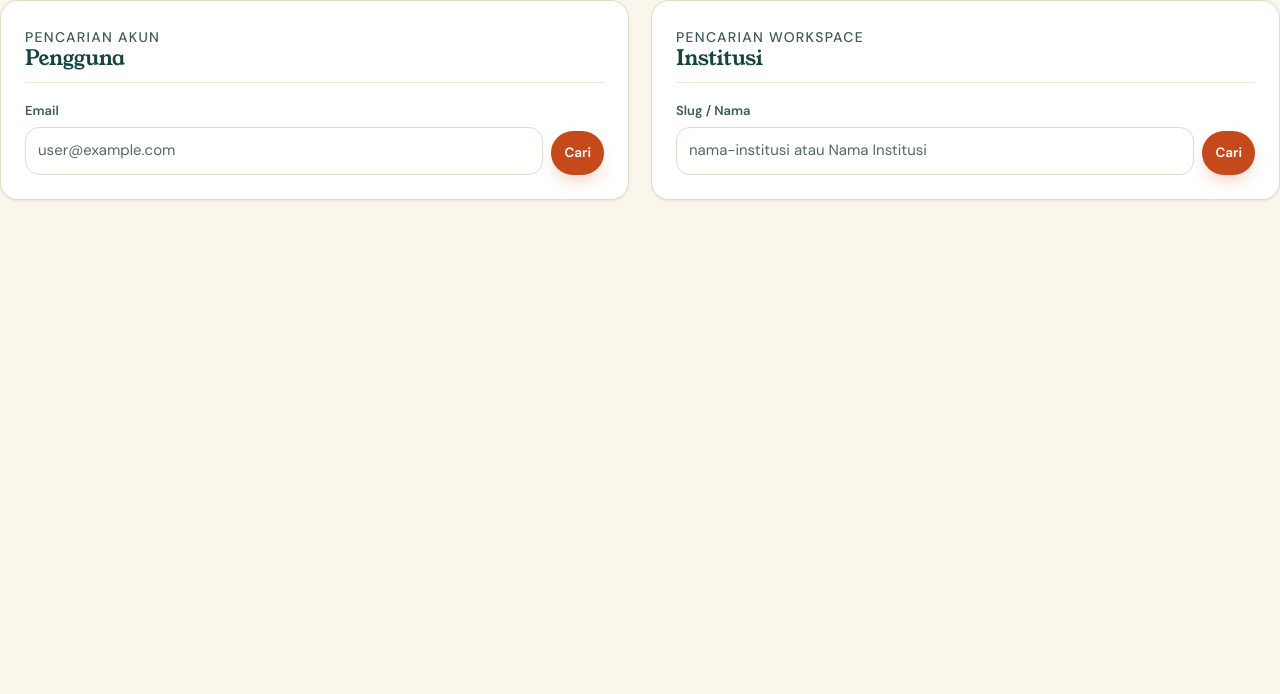
elevating a recruiter to the full tier › tells the operator an account that was already at the tier was left alone
Type "target@example.test" into the field labelled "Email". click: x=284, y=151
box: [25,127,543,175]
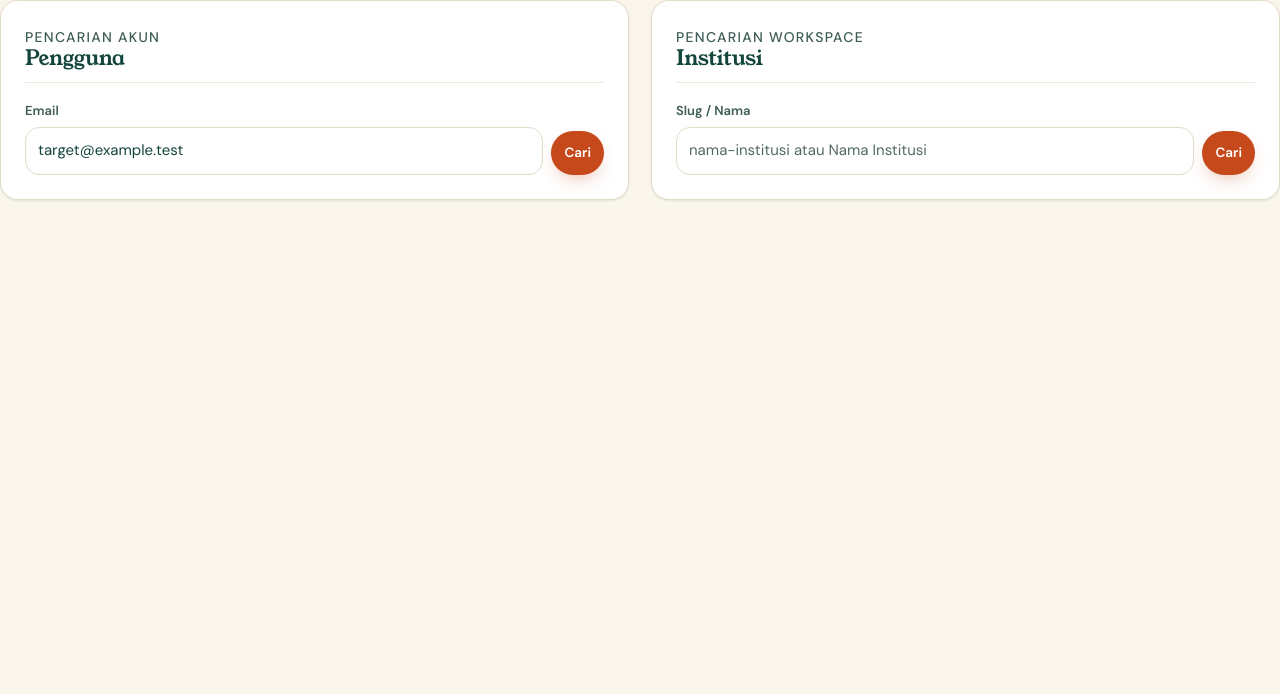
Click the 1st button "Cari". click: x=578, y=153
box: [551,131,604,175]
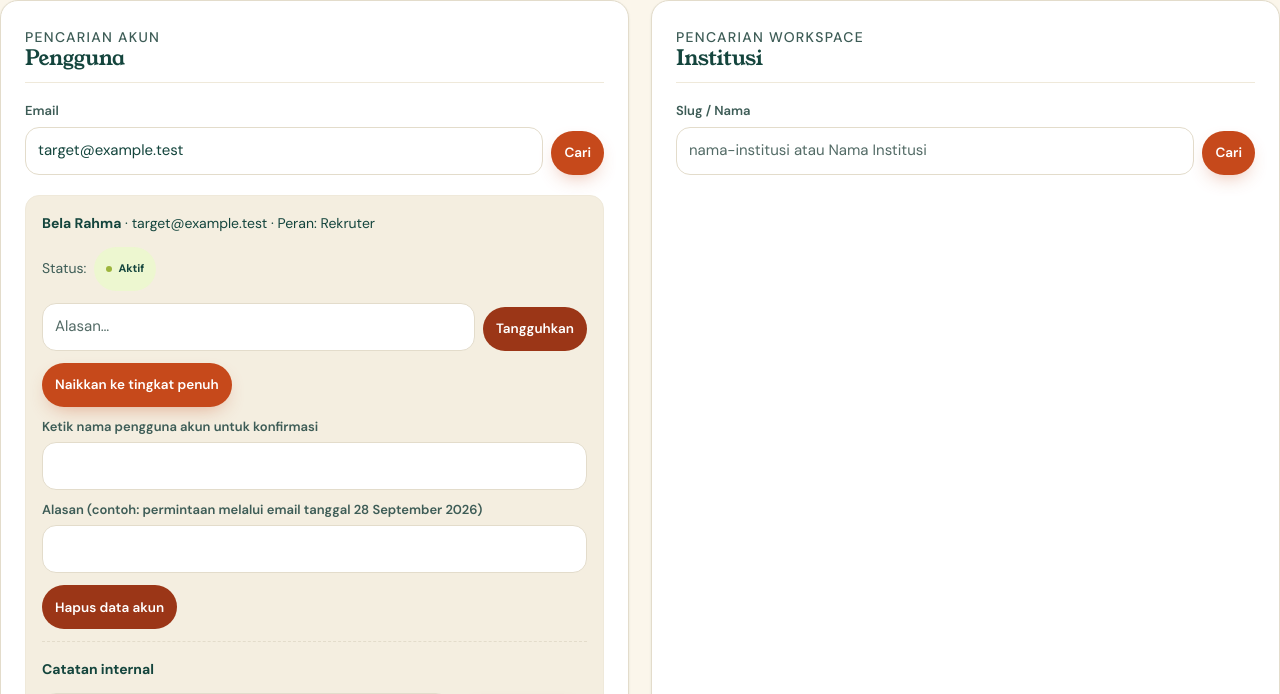
Check: the text "Bela Rahma" is shown, box [42,214,121,232]
Click the button "Naikkan ke tingkat penuh". click: x=137, y=385
box: [42,363,232,407]
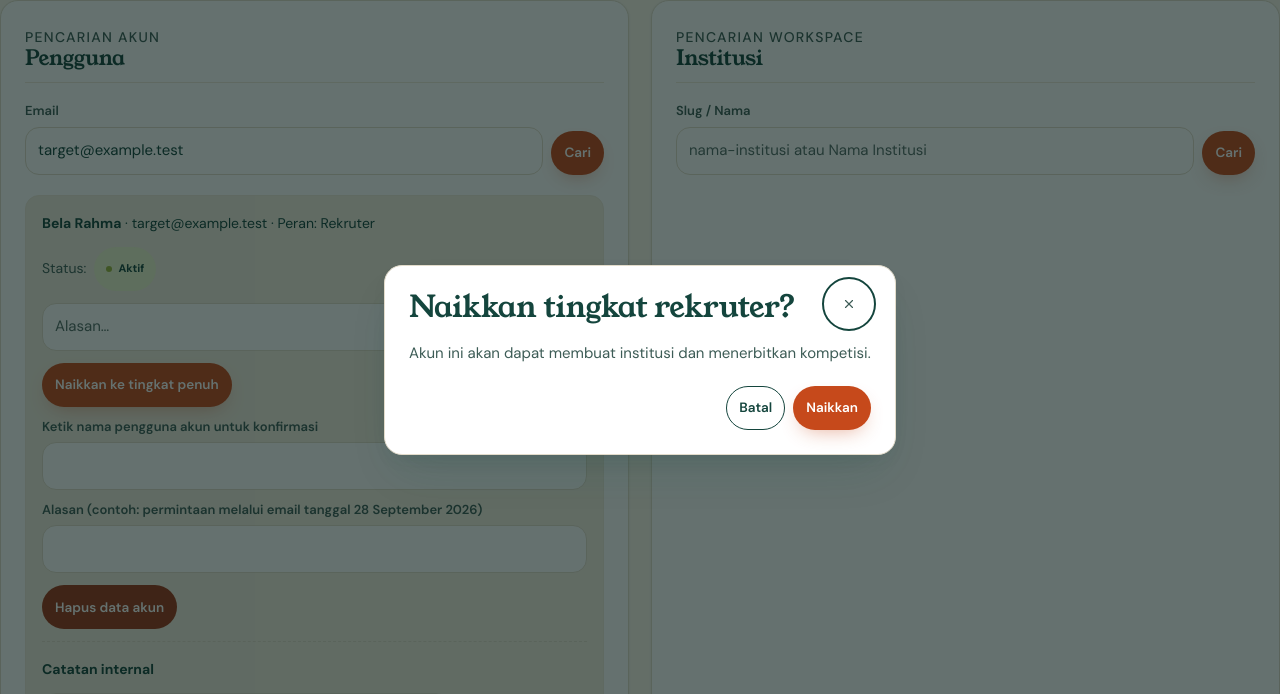
Click the button "Naikkan". click: x=832, y=408
box: [793,386,871,430]
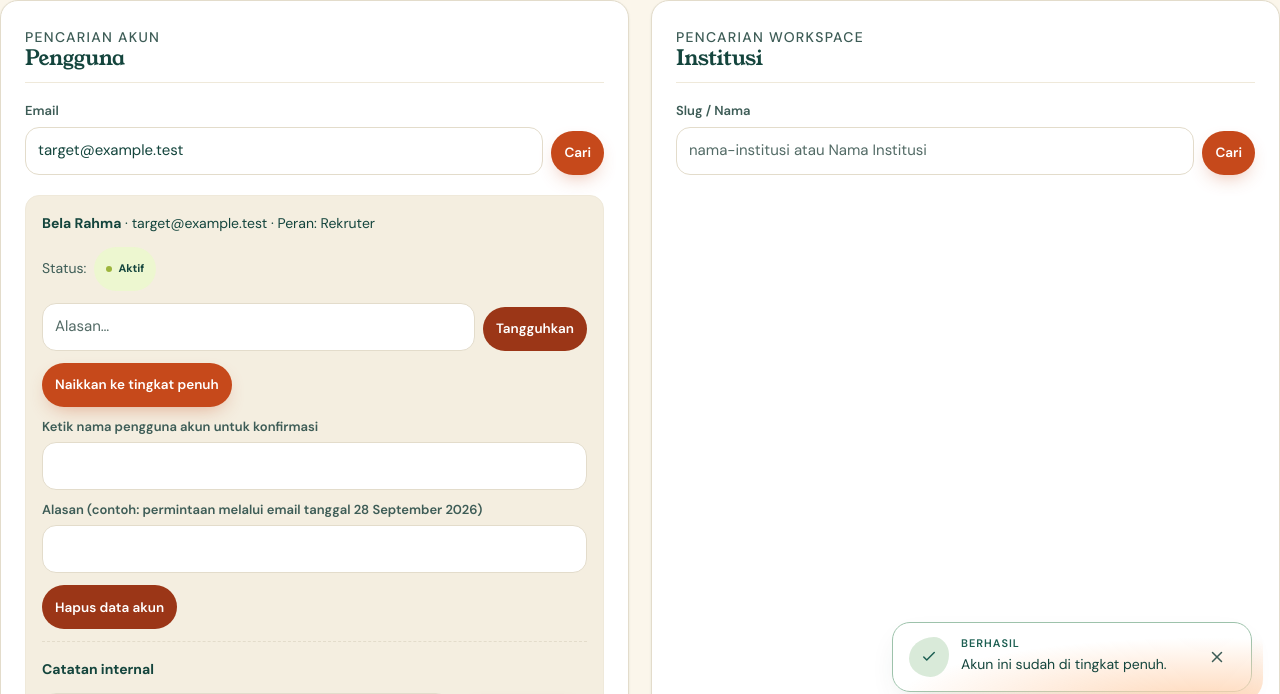
Check: the text "Akun ini sudah di tingkat penuh." is shown, box [961,653,1183,676]
